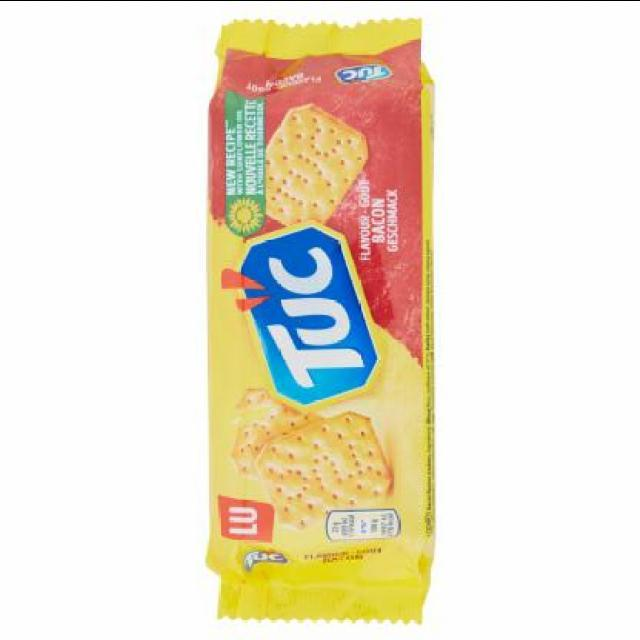Cracker: (198, 14, 440, 628)
